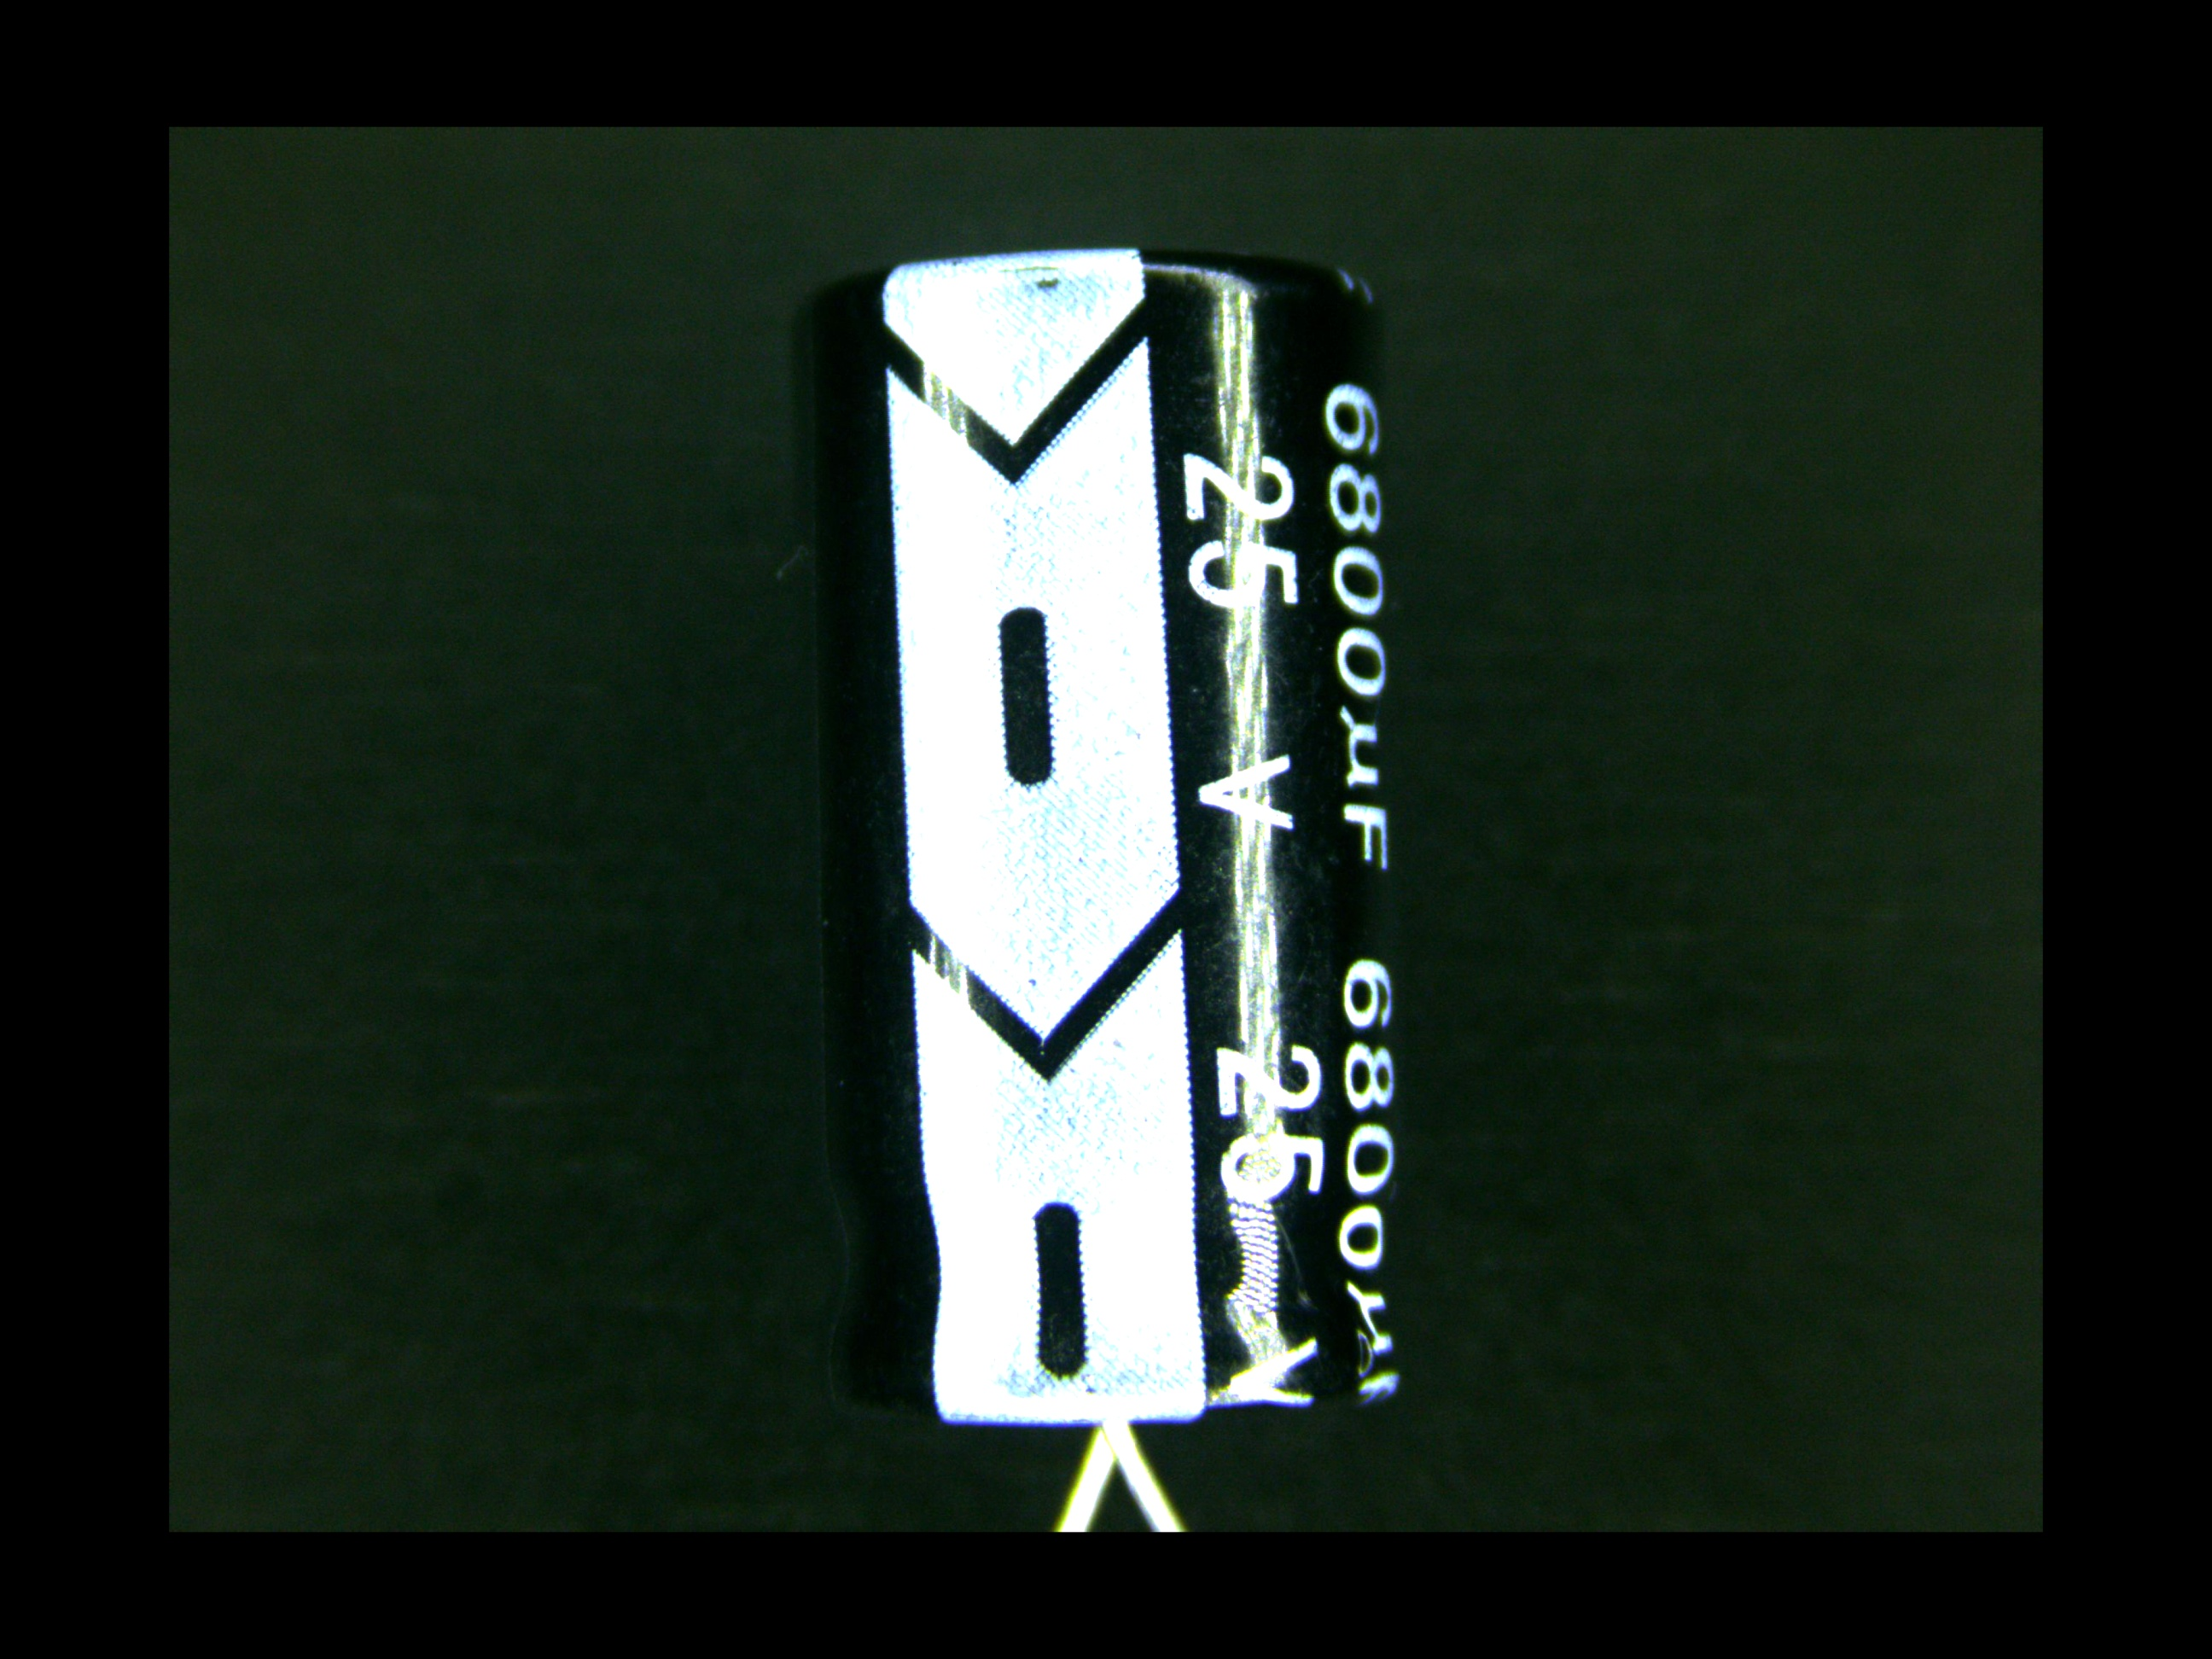c3: (801, 247, 1411, 1492)
